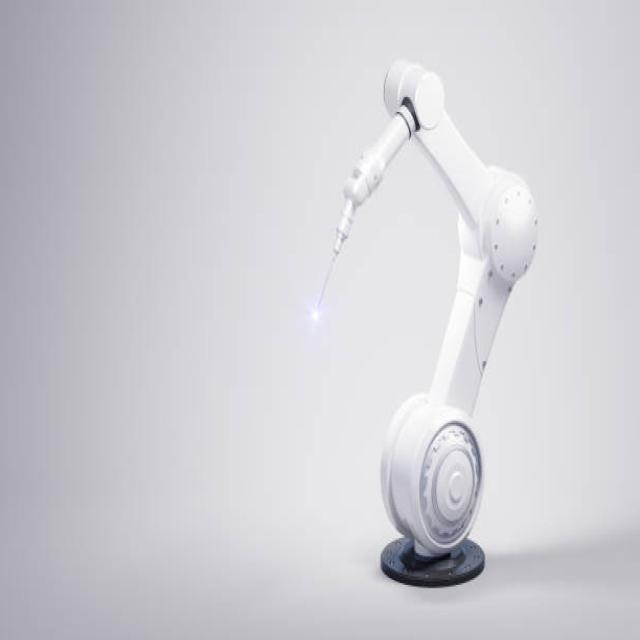Robotic-arm: (302, 48, 546, 602)
